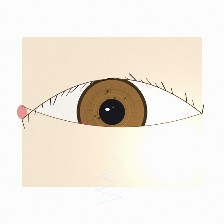foreign_body_visible: (62, 113, 105, 148)
